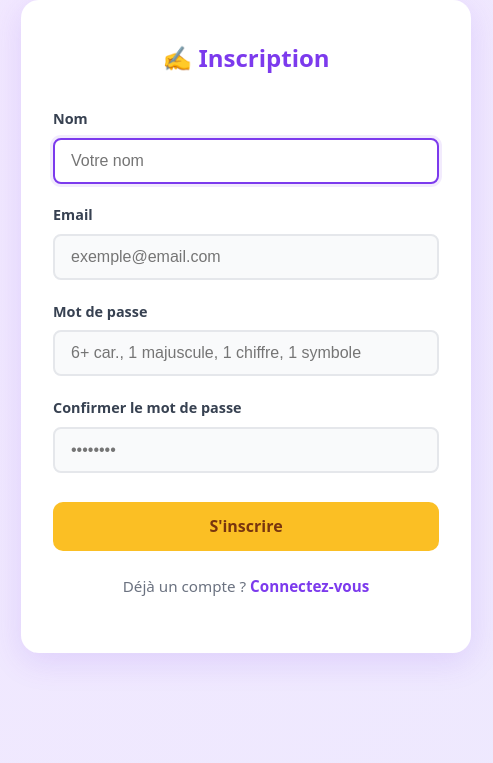
Inscription — Validation du champ Email › doit afficher une erreur si l'email est vide
Type "Alice" into the field with placeholder "Votre nom" at (246, 161), box [53,138,439,184]
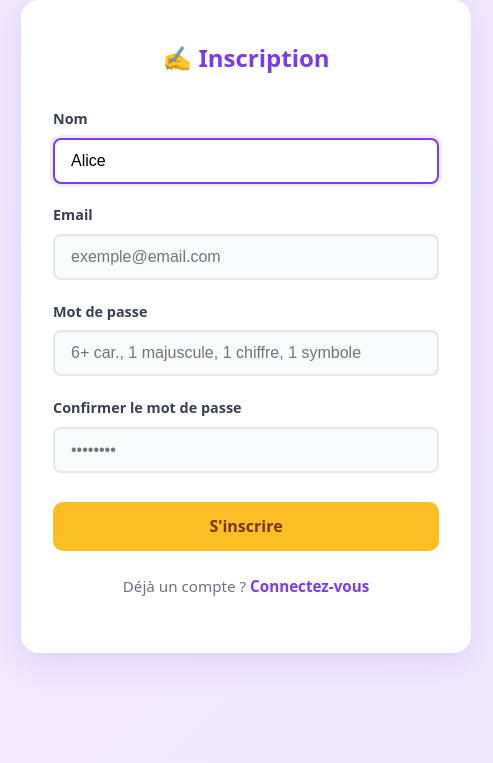
Click the button "S'inscrire" at (246, 526), box [53,502,439,551]
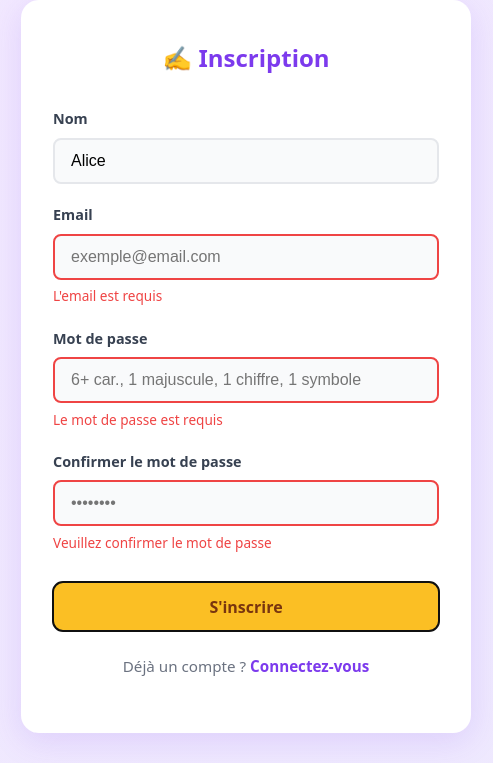
Expected: the text "L'email est requis" is shown, [53,286,162,305]
